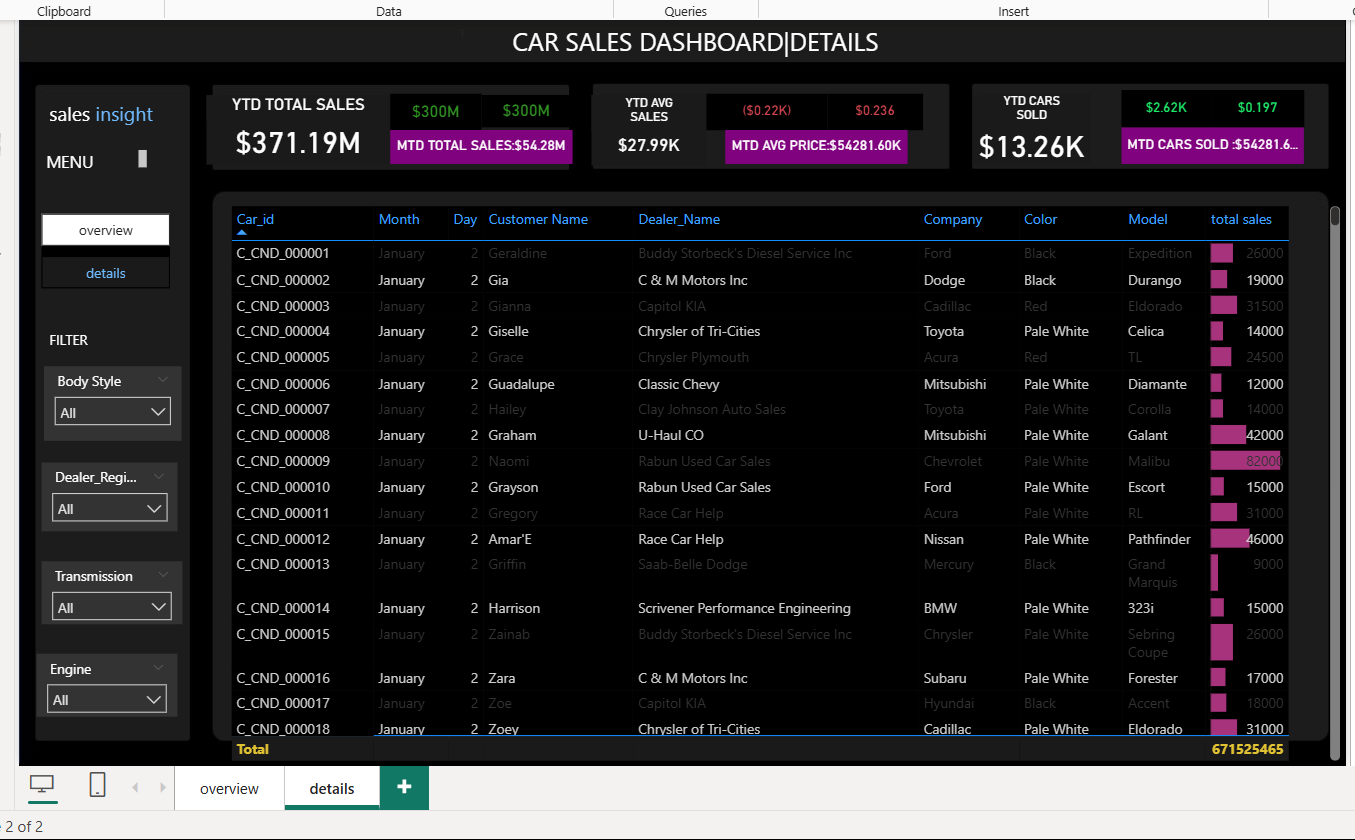

Layout of this report page (visuals, bound fields, positions):
{"tool":"powerbi","page":{"name":"details","canvas":[1280,720],"ordinal":1},"visuals":[{"type":"card","title":"YTD TOTAL SALES","fields":{"Values":["car_data.ytd  total sales"]},"box":[181,72.4,177.3,67.6],"z":0},{"type":"card","title":"PYTD ","fields":{"Values":["car_data.PYTD YOTAL SALES"]},"box":[357.8,70.7,88,36.1],"z":1000},{"type":"card","fields":{"Values":["car_data.MTD KPI"]},"box":[357.8,106.8,176,33.2],"z":2000},{"type":"card","title":"YTD AVG SALES","fields":{"Values":["car_data.YTD AVG PRICE"]},"box":[552.6,72.1,111.1,67.8],"z":3000},{"type":"card","title":"PYTD ","fields":{"Values":["car_data.AVG PRICE DIFF"]},"box":[663.5,71.2,117,35],"z":4000},{"type":"card","title":"PYTD ","fields":{"Values":["car_data.YOY SALES GRROWTH"]},"box":[780.6,71.2,91.7,35],"z":5000},{"type":"card","fields":{"Values":["car_data.MTD AVG PRICE KPI"]},"box":[681.6,106.2,176.1,32.6],"z":6000},{"type":"card","title":"YTD CARS SOLD","fields":{"Values":["car_data.YTD CARS SOLD"]},"box":[920.5,70.7,114,67.8],"z":7000},{"type":"card","title":"PYTD ","fields":{"Values":["car_data.CARS SOLD DIFF"]},"box":[1064.1,67.6,86.9,36.2],"z":8000},{"type":"card","title":"PYTD ","fields":{"Values":["car_data.YOY CAR SOLD GROWTH"]},"box":[1150.9,67.6,89.3,36.2],"z":9000},{"type":"card","fields":{"Values":["car_data.MTD CARS SOLD KPI"]},"box":[1063.8,103.8,176.4,35.6],"z":10000},{"type":"card","title":"PYTD ","fields":{"Values":["car_data.PYTD YOTAL SALES"]},"box":[446.4,72.4,86.9,31.4],"z":11000},{"type":"textbox","box":[414.1,0,561.2,70.7],"z":12000},{"type":"slicer","fields":{"Values":["car_data.Body Style"]},"box":[24.5,334.7,132.7,72.1],"z":13000},{"type":"slicer","fields":{"Values":["car_data.Dealer_Region"]},"box":[21.6,427.1,131.3,66.4],"z":14000},{"type":"slicer","fields":{"Values":["car_data.Transmission"]},"box":[21.6,522.3,135.6,60.6],"z":15000},{"type":"slicer","fields":{"Values":["car_data.Engine"]},"box":[17.3,611.7,135.6,60.6],"z":16000},{"type":"textbox","box":[24.5,294.3,124.1,31.7],"z":17000},{"type":"tableEx","fields":{"Values":["car_data.Car_id","calander table.Date.Variation.Date Hierarchy.Month","calander table.Date.Variation.Date Hierarchy.Day","car_data.Customer Name","car_data.Dealer_Name","car_data.Company","car_data.Color","car_data.Model","car_data.total sales"]},"box":[199.1,174.6,1080.6,545.4],"z":18000},{"type":"textbox","box":[24.5,72.1,132.7,34.6],"z":19000},{"type":"textbox","box":[21.6,121.2,106.8,28.9],"z":20000},{"type":"pageNavigator","title":"OVERVIEW","box":[21.6,187.6,124.1,72.1],"z":21000}]}

Visuals, with their boxes on the page's 1280x720 design canvas (x1, y1, x2, y2). These are canvas units, not pixel positions in the 1355x840 screenshot, which may show the page scaled, cropped or inside an application window:
"YTD TOTAL SALES" card: [181, 72, 358, 140]
"PYTD " card: [358, 71, 446, 107]
card - car_data.MTD KPI: [358, 107, 534, 140]
"YTD AVG SALES" card: [553, 72, 664, 140]
"PYTD " card: [664, 71, 780, 106]
"PYTD " card: [781, 71, 872, 106]
card - car_data.MTD AVG PRICE KPI: [682, 106, 858, 139]
"YTD CARS SOLD" card: [920, 71, 1034, 138]
"PYTD " card: [1064, 68, 1151, 104]
"PYTD " card: [1151, 68, 1240, 104]
card - car_data.MTD CARS SOLD KPI: [1064, 104, 1240, 139]
"PYTD " card: [446, 72, 533, 104]
textbox: [414, 0, 975, 71]
slicer - car_data.Body Style: [24, 335, 157, 407]
slicer - car_data.Dealer_Region: [22, 427, 153, 494]
slicer - car_data.Transmission: [22, 522, 157, 583]
slicer - car_data.Engine: [17, 612, 153, 672]
textbox: [24, 294, 149, 326]
tableEx - car_data.Car_id x calander table.Date.Variation.Date Hierarchy.Month: [199, 175, 1280, 720]
textbox: [24, 72, 157, 107]
textbox: [22, 121, 128, 150]
"OVERVIEW" pageNavigator: [22, 188, 146, 260]
